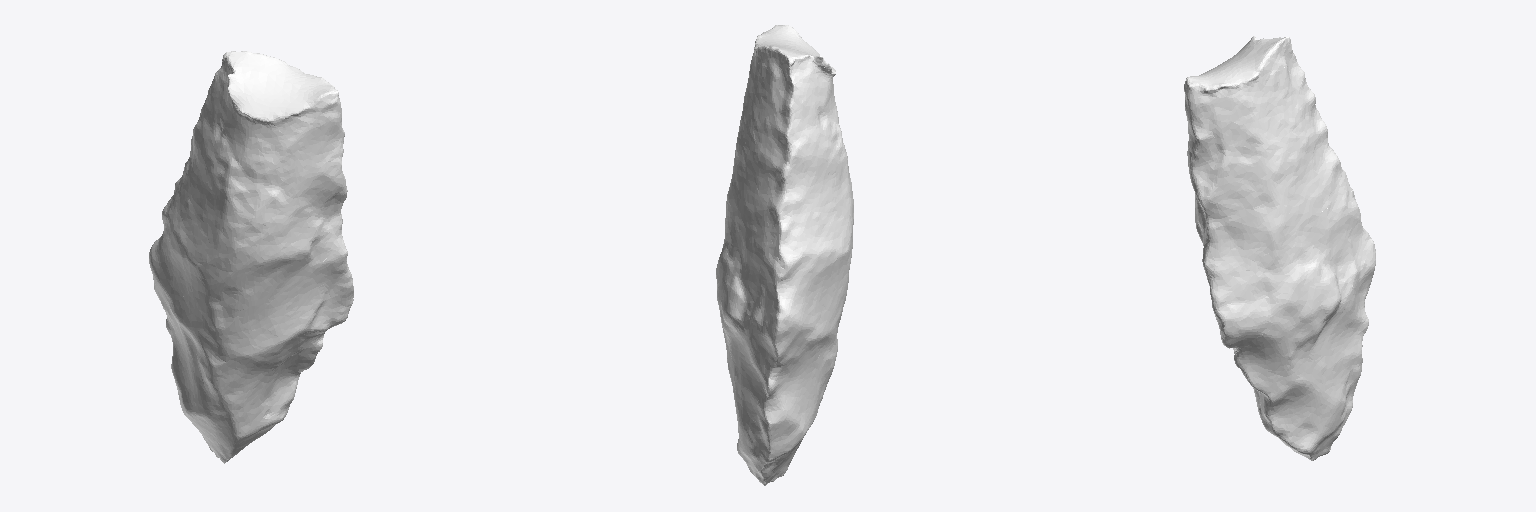
The model's file is as511.1real.obj.
3 views of the same model, side by side, from view 1: azimuth 30°, elevation 25°; view 2: azimuth 150°, elevation 25°; view 3: azimuth 270°, elevation 25° (orthographic).
Parts seen in each view (by area): view 1: as511.1; view 2: as511.1; view 3: as511.1.
Boxes of the visible parts, x1,y1,x2,y2 form: as511.1: [149, 51, 353, 463]; as511.1: [716, 25, 853, 485]; as511.1: [1184, 36, 1375, 460].
Bounding box in the file's own units: 0.3444 × 0.9784 × 0.41.